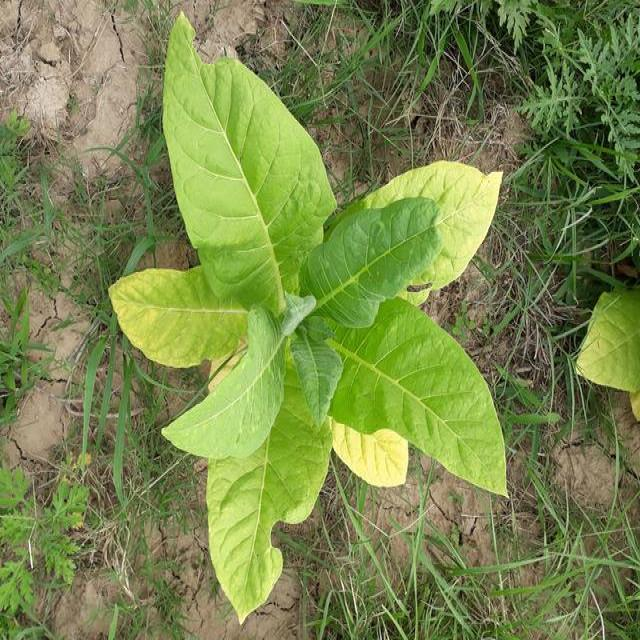crop: (115, 16, 508, 614), (577, 276, 640, 423)
